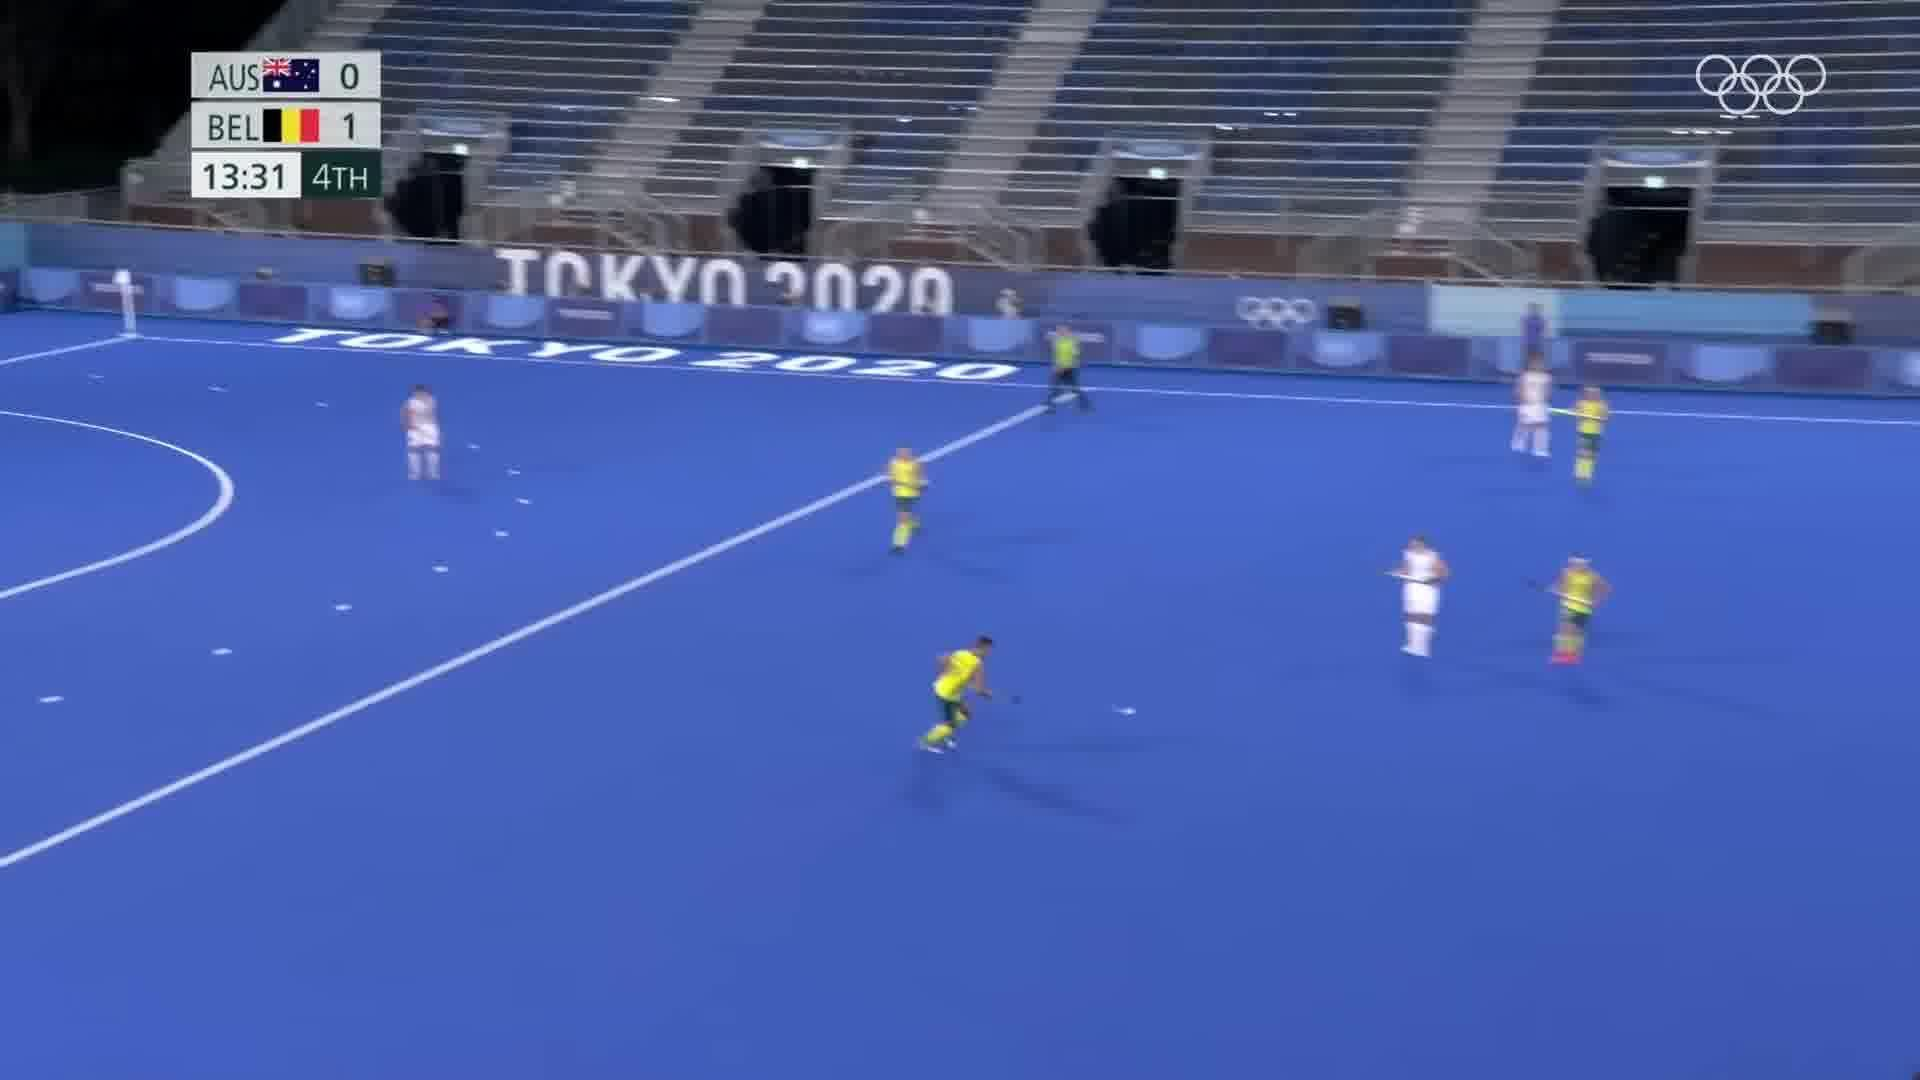ball: (1108, 698, 1146, 729)
